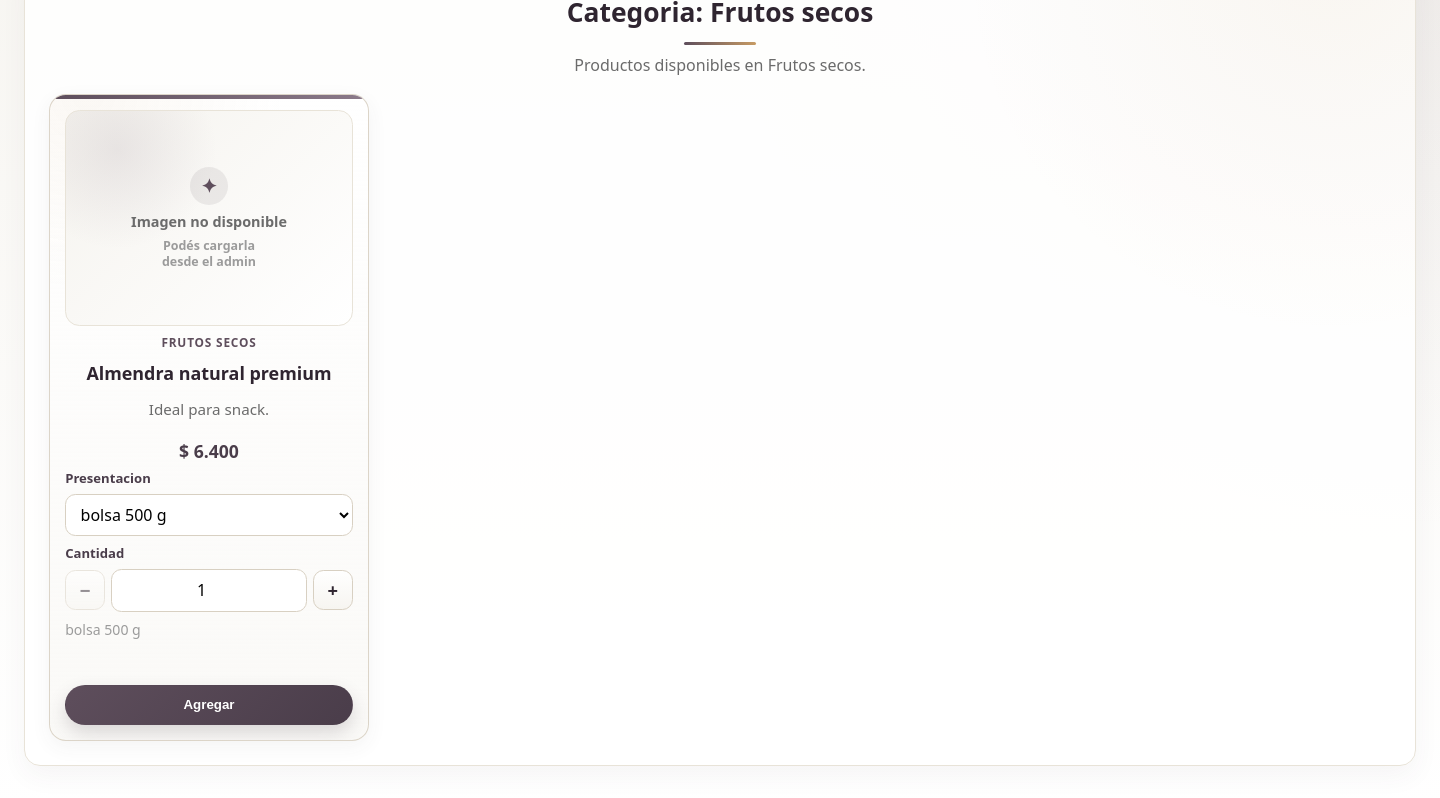
Scenario: App checkout MVP flow › updates the shared cart badge when adding from a category detail card
(page scrolled)
Expected: the element named "Almendra natural premium" is shown, [49,94,369,741]
Click the button "Agregar" at (209, 705), box [65,685,353,725]
(page scrolled)
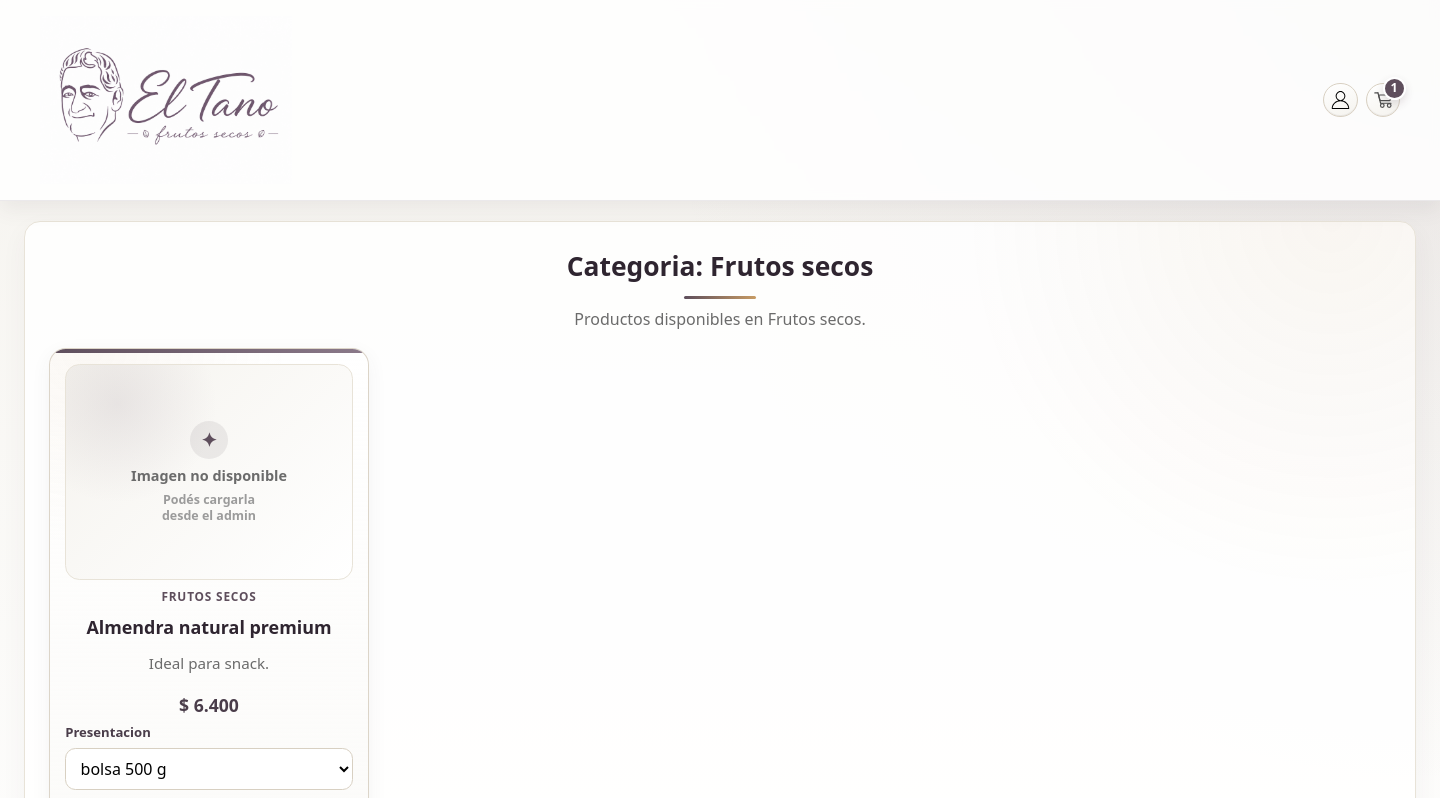
Expected: the link named "Ver carrito, 1 item" reads "1", [1366,83,1400,117]
